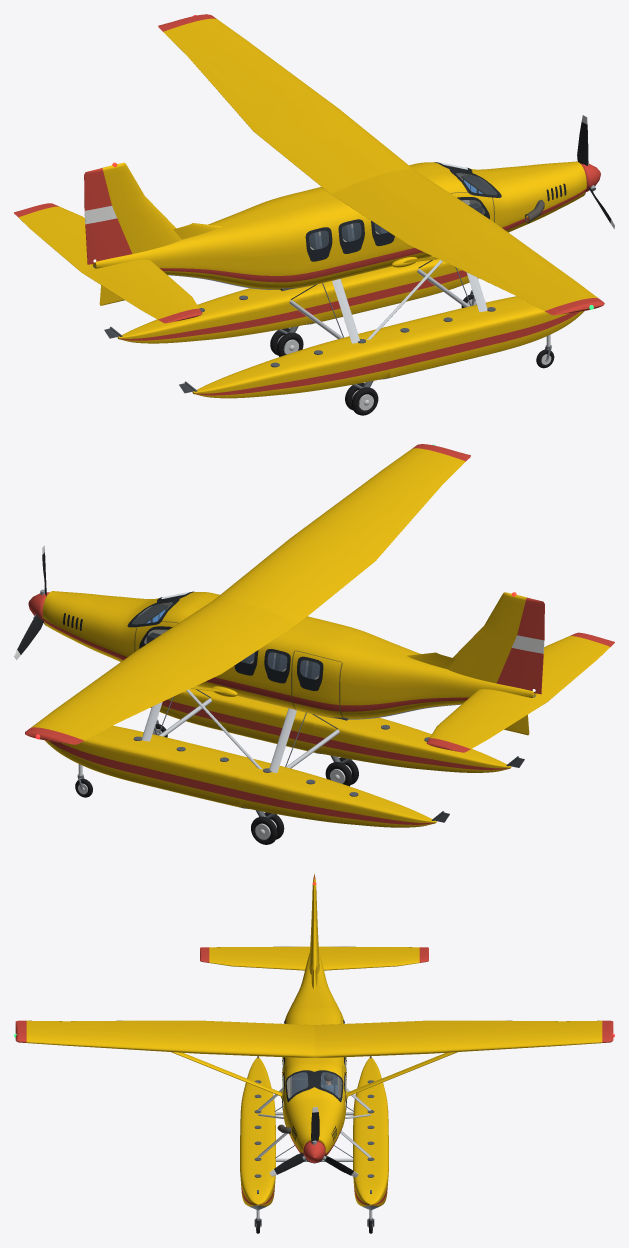
File: seaplane.glb
The picture shows the model from 3 angles, top to bottom: view 1: azimuth 30°, elevation 25°; view 2: azimuth 150°, elevation 25°; view 3: azimuth 270°, elevation 25°; orthographic projection. The views are drawn at different scales.
Visible parts, largest first — view 1: fuselage, wing_l, float_r, wing_r, float_l, fin, tailplane_r, tailplane_l, window_frames, float_struts, window_glass, cabin_seats (+1 smaller); view 2: fuselage, wing_r, float_l, wing_l, float_r, fin, tailplane_l, tailplane_r, window_frames, float_struts, window_glass, cabin_seats (+2 smaller); view 3: wing_r, wing_l, fuselage, float_l, float_r, tailplane_r, tailplane_l, wing_struts, window_glass, blade_roots_and_mid, window_frames, fin (+1 smaller).
Boxes of the visible parts, <box> form: fuselage: <box>92,161,586,289</box>; wing_l: <box>158,14,414,193</box>; float_r: <box>192,296,584,398</box>; wing_r: <box>331,169,604,315</box>; float_l: <box>117,256,478,343</box>; fin: <box>84,162,181,264</box>; tailplane_r: <box>82,259,202,323</box>; tailplane_l: <box>14,203,93,272</box>; window_frames: <box>305,162,501,261</box>; float_struts: <box>332,260,487,343</box>; window_glass: <box>309,163,496,249</box>; cabin_seats: <box>309,223,388,249</box>; fuselage: <box>42,591,536,719</box>; wing_r: <box>214,444,470,623</box>; float_l: <box>45,725,436,827</box>; wing_l: <box>25,599,297,744</box>; float_r: <box>150,686,511,772</box>; fin: <box>447,592,544,694</box>; tailplane_l: <box>426,689,547,752</box>; tailplane_r: <box>535,632,614,701</box>; window_frames: <box>127,591,323,690</box>; float_struts: <box>141,689,296,772</box>; window_glass: <box>132,592,319,678</box>; cabin_seats: <box>240,652,319,679</box>; wing_r: <box>15,1020,314,1057</box>; wing_l: <box>314,1020,613,1057</box>; fuselage: <box>282,953,346,1163</box>; float_l: <box>353,1057,388,1210</box>; float_r: <box>240,1057,275,1210</box>; tailplane_r: <box>200,946,310,970</box>; tailplane_l: <box>318,946,428,970</box>; wing_struts: <box>171,1052,457,1096</box>; window_glass: <box>282,1059,346,1097</box>; blade_roots_and_mid: <box>274,1112,353,1175</box>; window_frames: <box>282,1020,346,1109</box>; fin: <box>309,873,319,974</box>.
Size of the model in its own units: 12.02 by 6.05 by 15.98.
